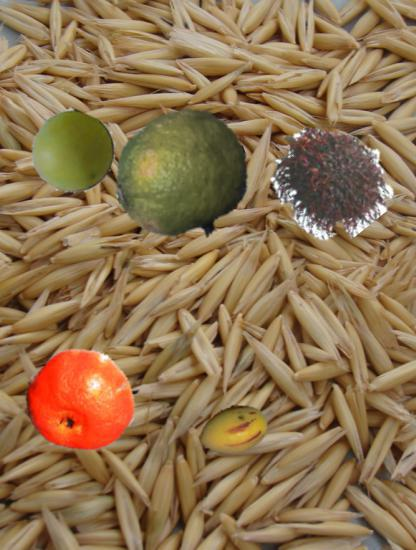Clementine: (22, 342, 137, 457)
Grape: (31, 110, 116, 195)
Limes: (114, 109, 251, 246)
Pepino: (198, 394, 269, 465)
Rambutan: (270, 118, 392, 240)
